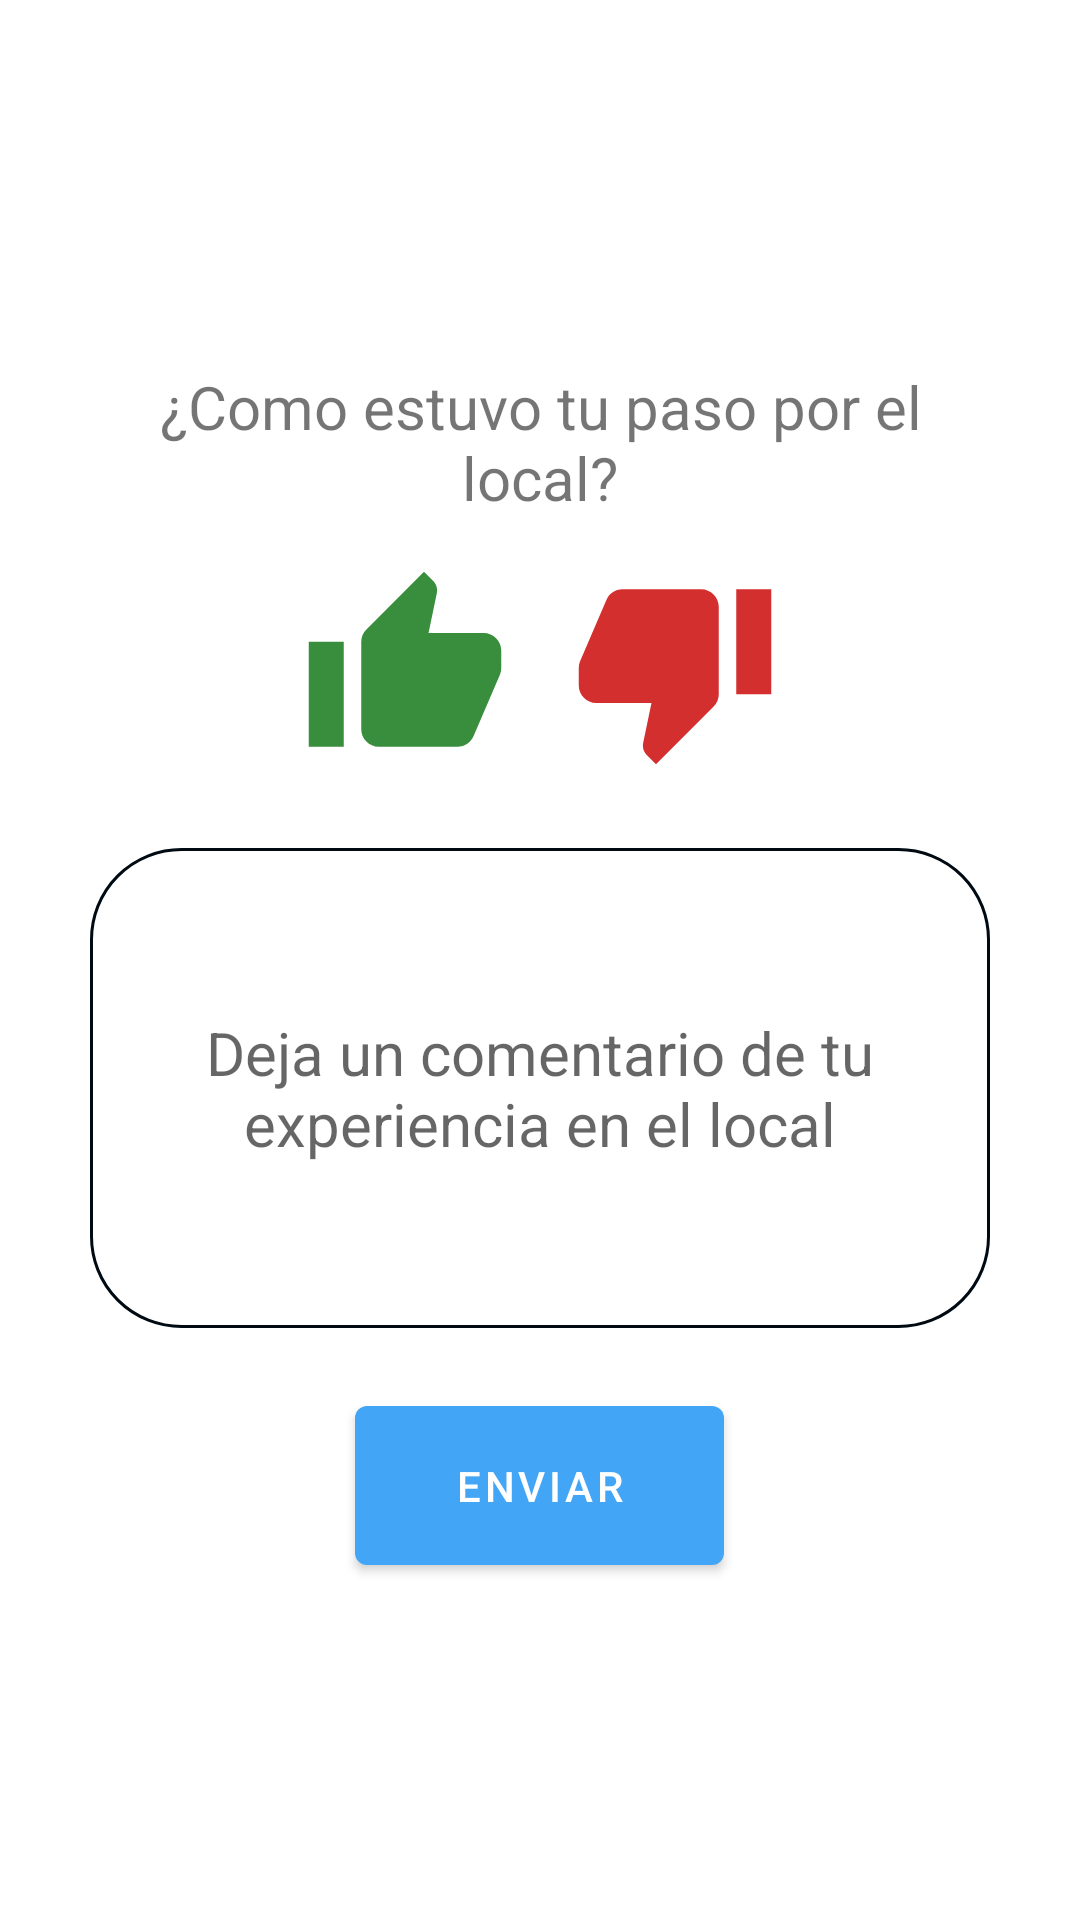

Icon click points for this 1080*1920 phone screenshot, format [x,y]:
megusta: [405,659]
nomegusta: [675,676]
